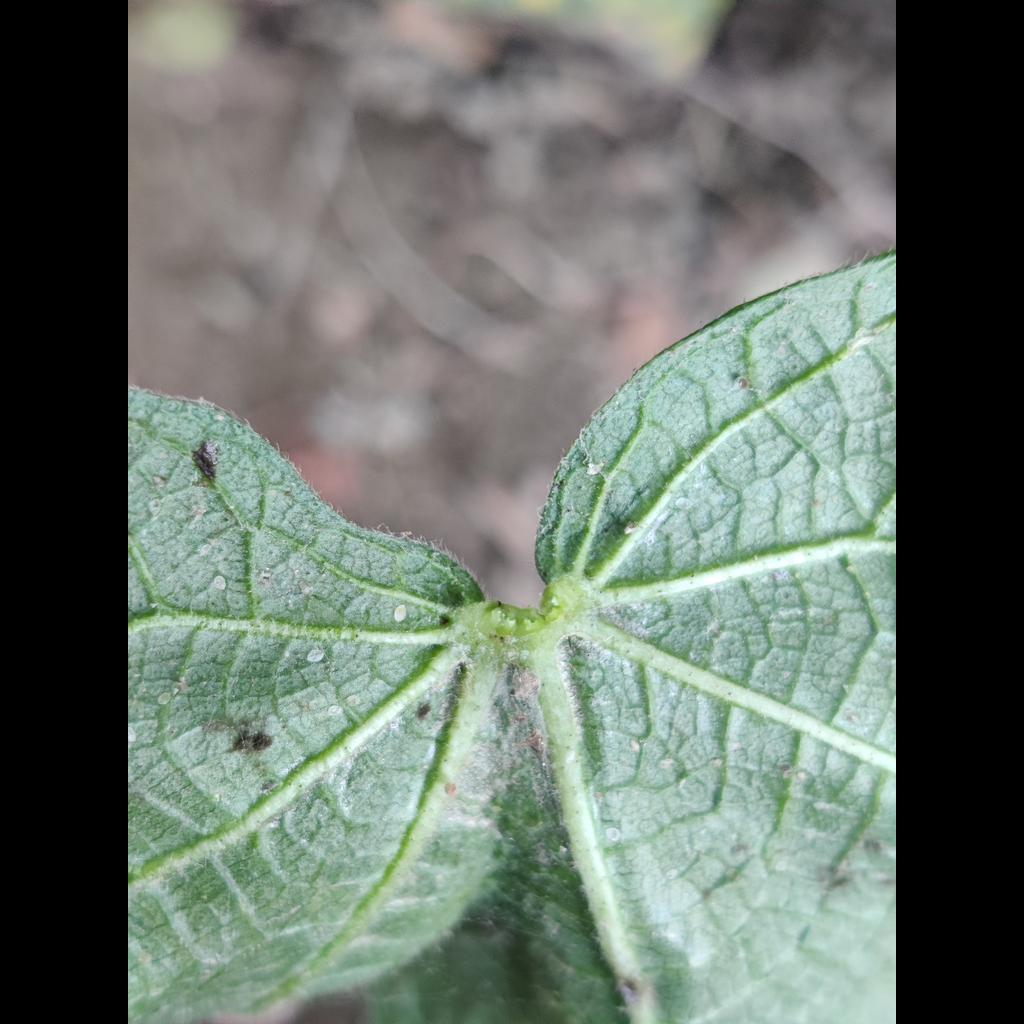nymph: (306, 649, 325, 663), (605, 826, 620, 842), (156, 692, 171, 707), (393, 605, 407, 621), (213, 575, 227, 591), (587, 463, 603, 475), (665, 867, 678, 880), (328, 704, 341, 716), (629, 739, 640, 752), (624, 526, 637, 535), (201, 544, 211, 554), (711, 759, 722, 768), (213, 414, 225, 421)
